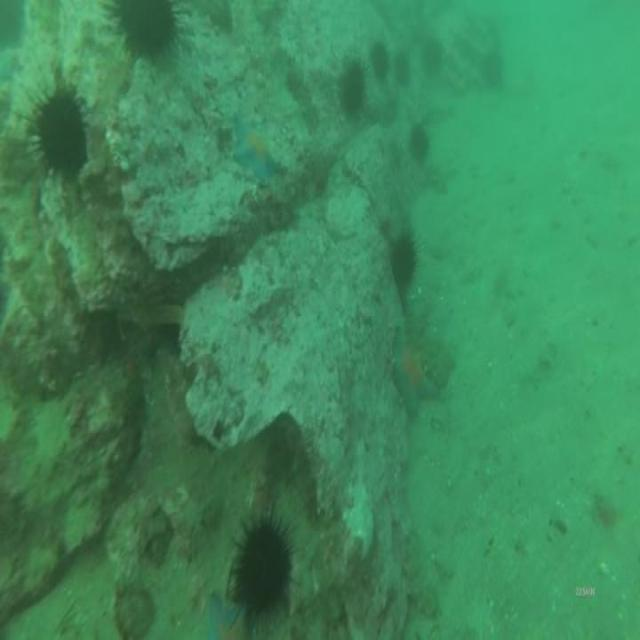echinus: (236, 523, 290, 612), (33, 91, 88, 170), (115, 3, 177, 52), (392, 234, 417, 289), (341, 64, 366, 108), (373, 43, 391, 87), (414, 125, 431, 158), (398, 54, 412, 87)
holothurian: (406, 531, 439, 618)
starfish: (393, 332, 435, 414), (236, 116, 284, 180)
